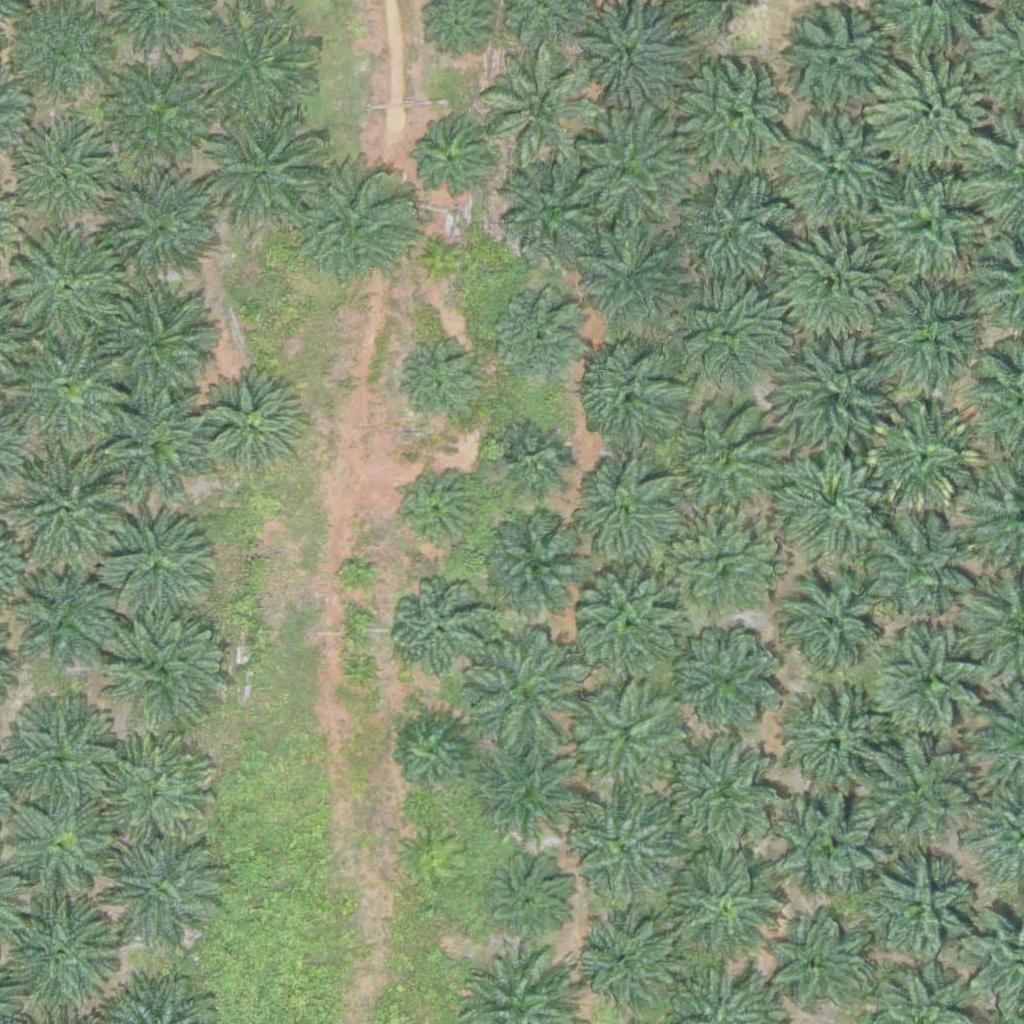Kelapa_Sawit: (104, 57, 229, 183), (194, 13, 319, 139), (677, 57, 802, 183), (774, 2, 899, 128), (883, 57, 1008, 183), (571, 103, 696, 229), (196, 106, 321, 232), (93, 284, 218, 410), (99, 505, 224, 631), (98, 601, 223, 727), (7, 325, 132, 451), (460, 627, 585, 753), (93, 731, 218, 857), (97, 831, 222, 957), (296, 160, 421, 285), (874, 169, 987, 283), (874, 277, 987, 391), (483, 50, 596, 163), (669, 403, 782, 516), (663, 509, 776, 622), (575, 570, 688, 683), (565, 454, 678, 567), (575, 338, 688, 451), (580, 220, 693, 333), (196, 373, 309, 486), (6, 571, 119, 684), (673, 620, 786, 733), (781, 690, 894, 803), (668, 735, 781, 848), (668, 848, 781, 961), (766, 786, 879, 899), (777, 229, 889, 343), (781, 118, 893, 232), (102, 387, 214, 501), (860, 737, 972, 851), (868, 399, 980, 512), (867, 515, 979, 628), (774, 568, 886, 681), (774, 444, 886, 557), (781, 342, 893, 455), (673, 176, 785, 289), (672, 277, 784, 390), (500, 159, 612, 272), (102, 172, 214, 285), (9, 115, 121, 228), (875, 624, 987, 737), (573, 686, 685, 799), (474, 737, 586, 850), (569, 793, 681, 906), (862, 850, 974, 963), (493, 288, 593, 389), (485, 519, 585, 620), (577, 914, 677, 1015), (765, 914, 865, 1015), (389, 582, 489, 682), (11, 801, 111, 901), (398, 340, 486, 428), (396, 468, 484, 556), (408, 116, 496, 204), (486, 851, 573, 939), (395, 716, 470, 792), (497, 423, 572, 498), (431, 239, 469, 277), (339, 559, 376, 597)
